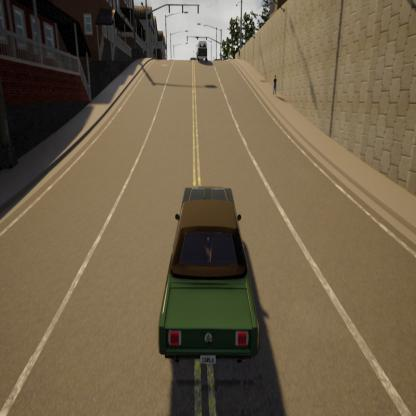Cars: (154, 152, 269, 387), (192, 29, 212, 70)
Pedestrian: (266, 65, 282, 104)
